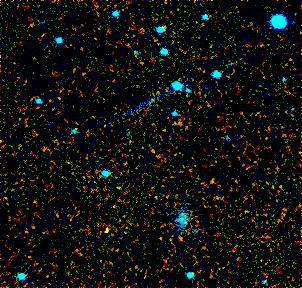star: (140, 138, 170, 168)
